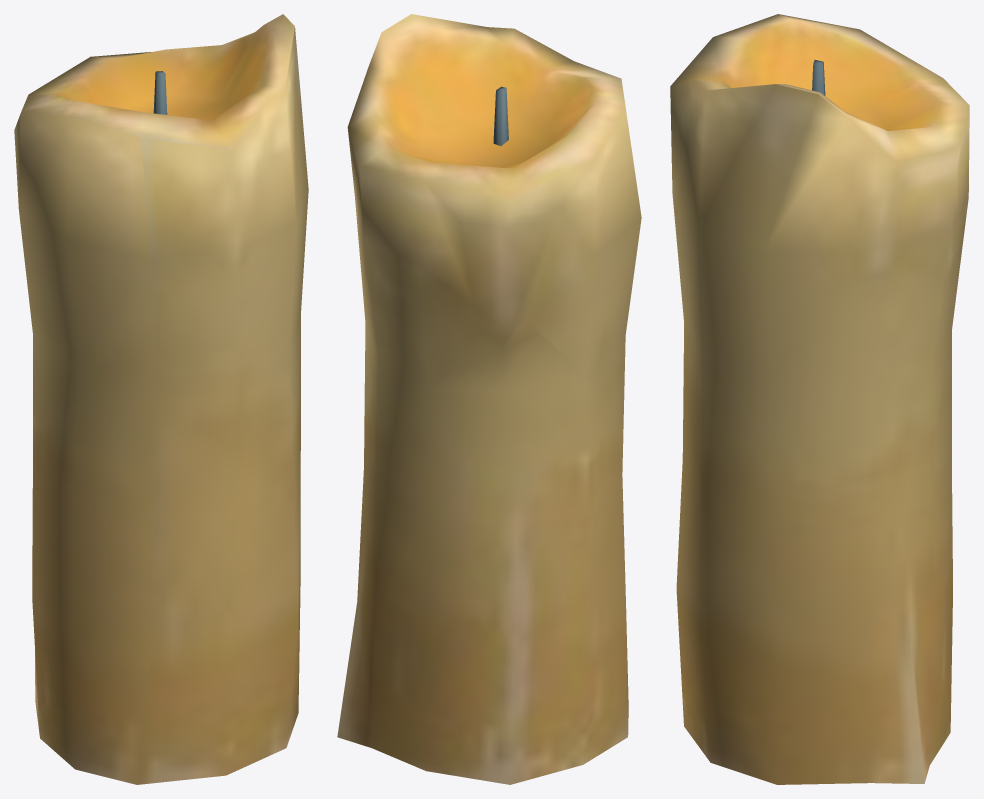
The model's file is prop_candle_2.glb.
3 views of the same model, side by side, from view 1: azimuth 30°, elevation 25°; view 2: azimuth 150°, elevation 25°; view 3: azimuth 270°, elevation 25° (orthographic). The views are drawn at different scales.
Visible parts, largest first — view 1: Candle_2; view 2: Candle_2; view 3: Candle_2.
Boxes of the visible parts, x1,y1,x2,y2 form: Candle_2: (14,14,308,784); Candle_2: (337,14,641,784); Candle_2: (670,14,969,784).
Bounding box in the file's own units: 0.0944 × 0.2511 × 0.0975.
Materials: 1 (1 with a texture image).
